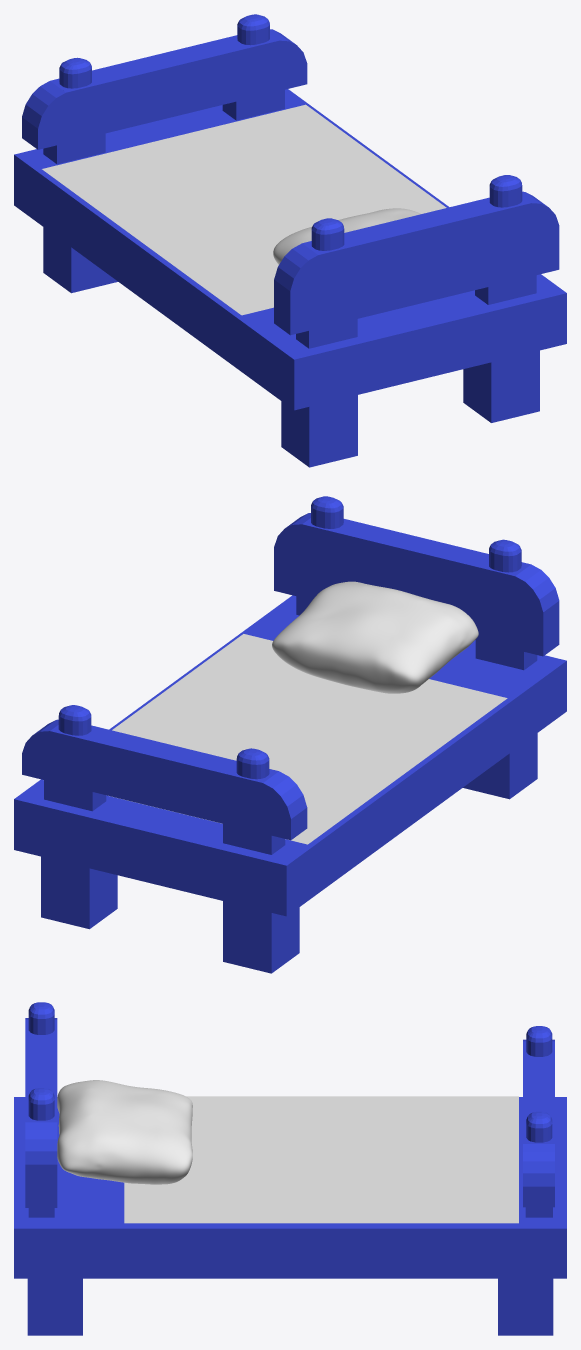
The model's file is bed_m2h.fbx.
The picture shows the model from 3 angles, top to bottom: view 1: azimuth 30°, elevation 25°; view 2: azimuth 150°, elevation 25°; view 3: azimuth 270°, elevation 25°; orthographic projection.
Visible parts, largest first — view 1: Bed; view 2: Bed; view 3: Bed.
Part boxes in pixels (x1,y1,x2,y2): Bed: (14, 14, 566, 467); Bed: (14, 496, 566, 973); Bed: (14, 1002, 566, 1335).
Size of the model in its own units: 1.95 by 3.46 by 1.6.
